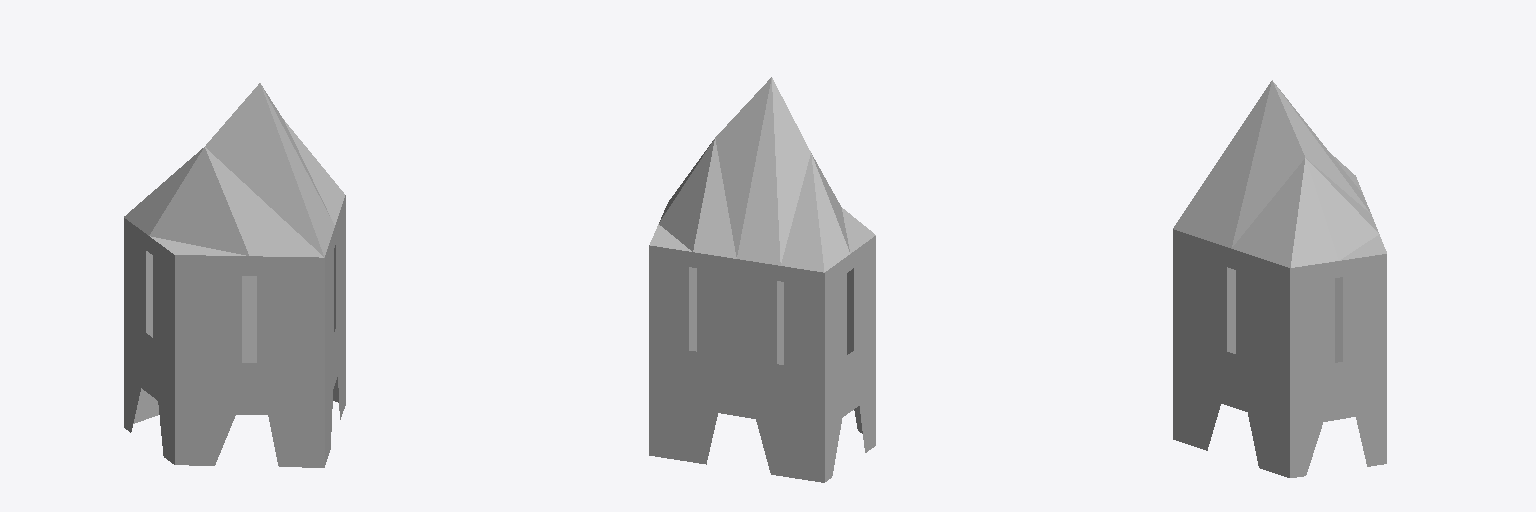
Rendered from center.room.obj.
3 renders of one model, left to right at view 1: azimuth 30°, elevation 25°; view 2: azimuth 150°, elevation 25°; view 3: azimuth 270°, elevation 25°, orthographic.
Visible parts, largest first — view 1: Plane.003_Plane.004; view 2: Plane.003_Plane.004; view 3: Plane.003_Plane.004.
Part boxes in pixels (bbox=[...]): Plane.003_Plane.004: bbox=[124, 83, 345, 467]; Plane.003_Plane.004: bbox=[649, 77, 875, 482]; Plane.003_Plane.004: bbox=[1173, 80, 1386, 477].
Bounding box in the file's own units: 3.02 × 5.36 × 2.96.